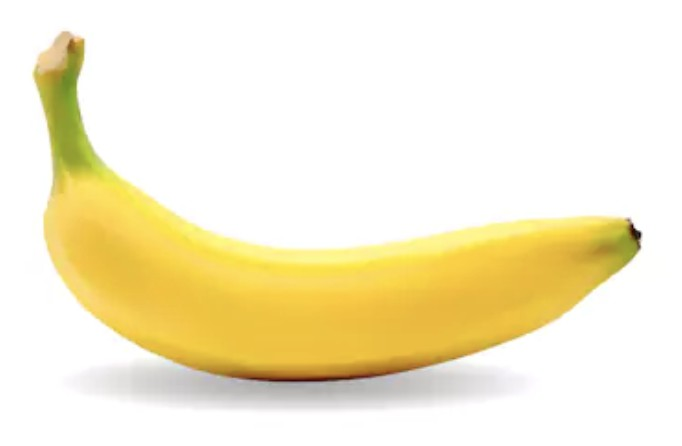fresh_banana: (34, 30, 640, 383)
